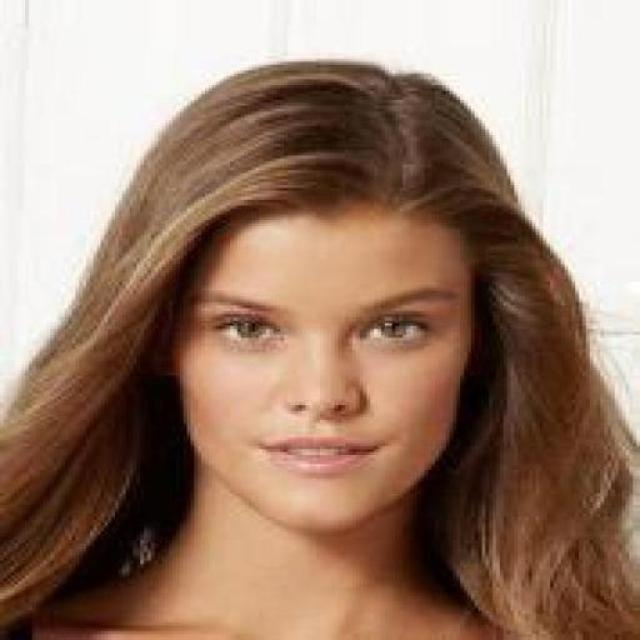bareface: (165, 126, 460, 544)
